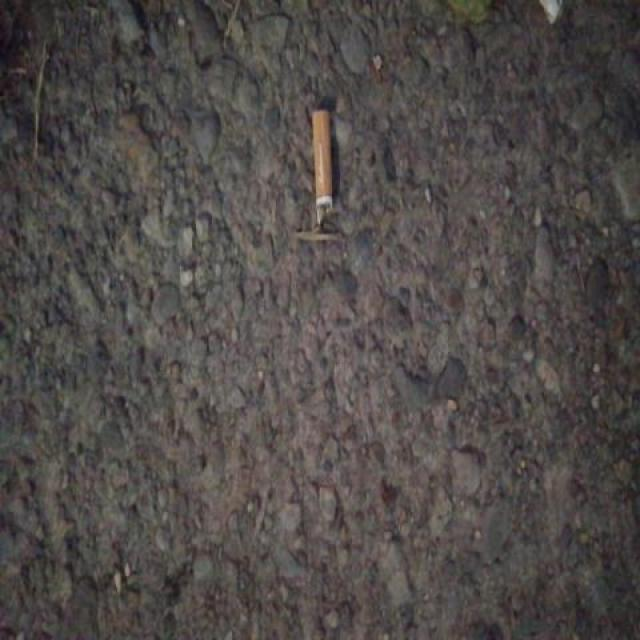non-organic waste: (307, 103, 340, 228)
